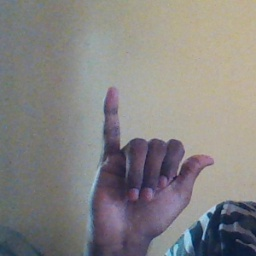J: (84, 85, 215, 240)
